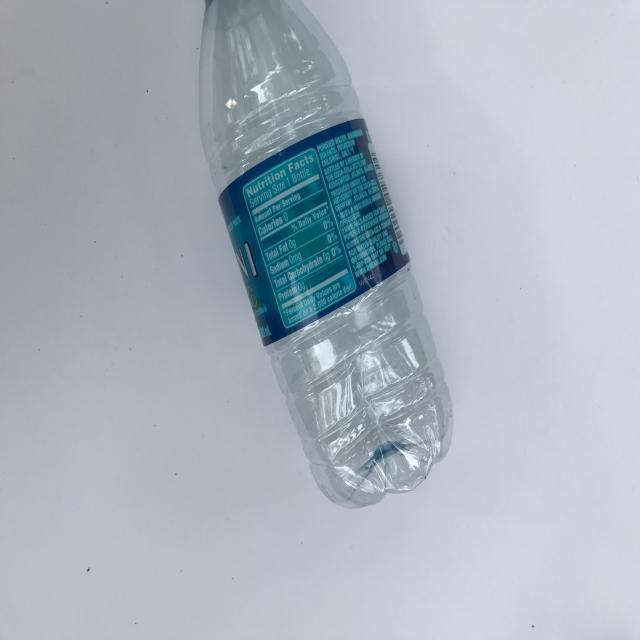plastic: (196, 2, 457, 508)
